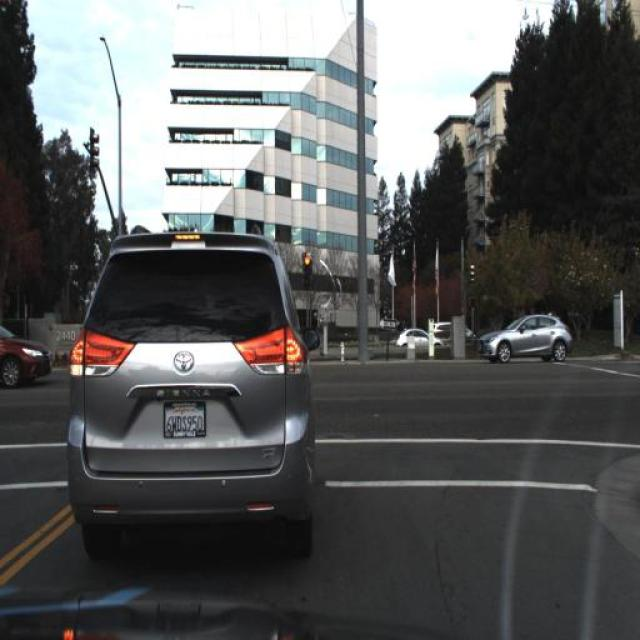car: (62, 231, 313, 569), (478, 312, 571, 366), (0, 323, 54, 392), (398, 329, 443, 356)
trafficLight-Green: (300, 249, 314, 289)
